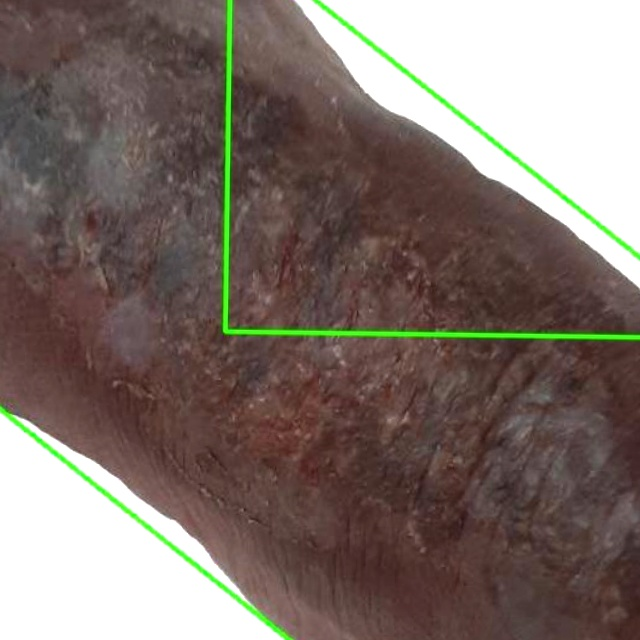Contact Dermatitis: (0, 0, 639, 639), (225, 0, 639, 337)
